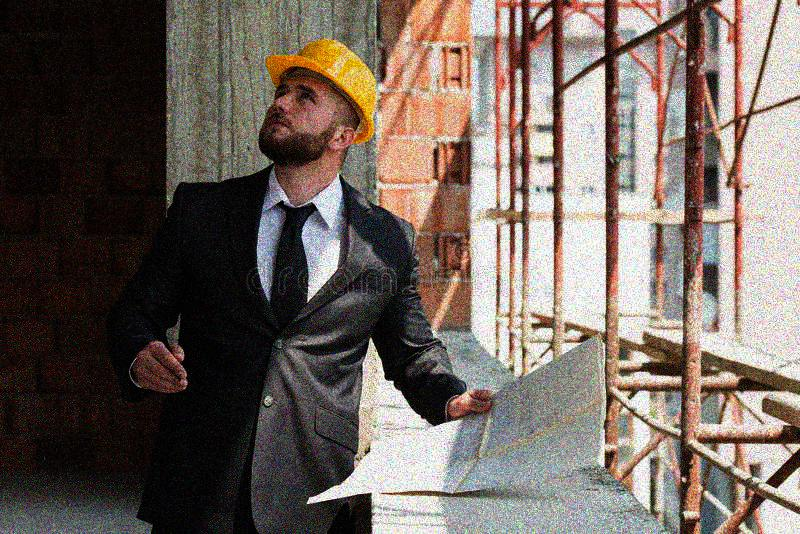helmet: (258, 35, 378, 170)
